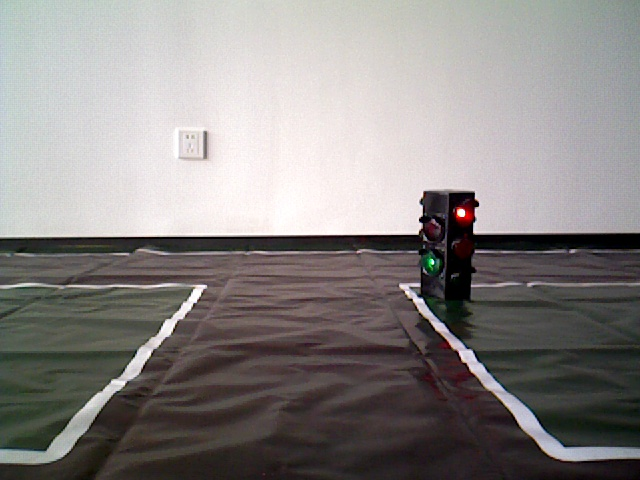red: (423, 190, 473, 302)
